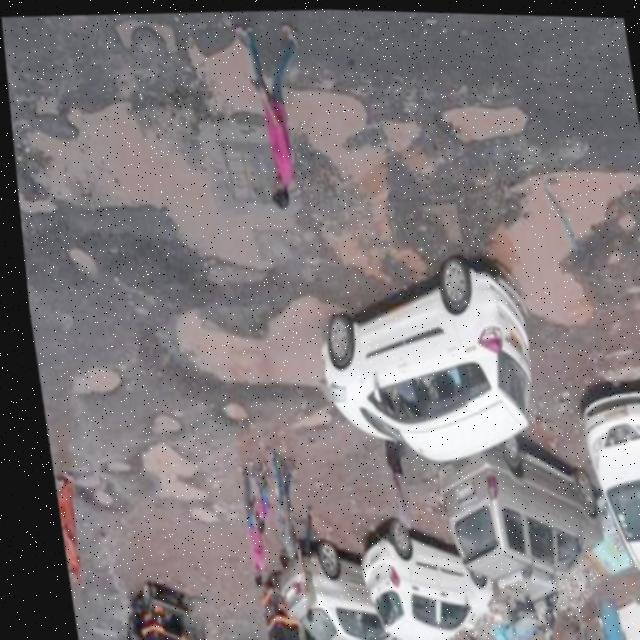Pothole: (7, 98, 288, 294), (465, 156, 640, 340), (183, 23, 370, 179), (144, 274, 326, 413), (124, 430, 198, 510), (431, 93, 527, 150), (60, 364, 116, 399), (14, 188, 55, 227), (206, 391, 243, 432), (60, 242, 93, 284), (135, 414, 174, 439), (91, 453, 123, 481), (178, 504, 208, 528), (78, 484, 103, 512)
